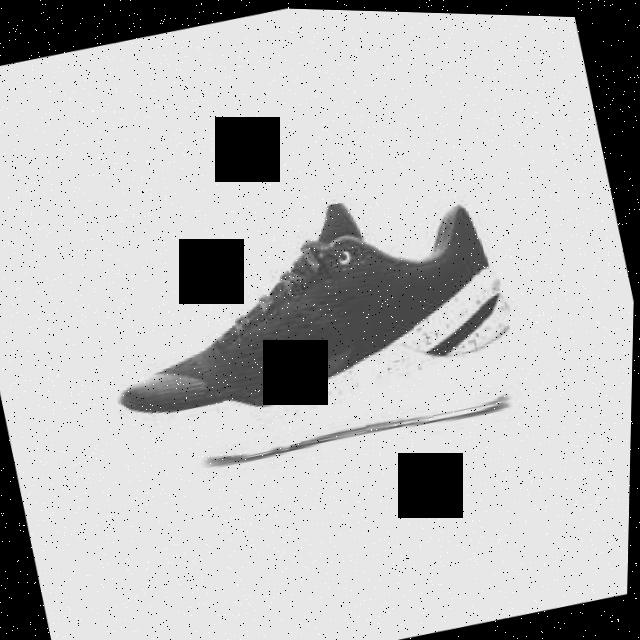shoe: (84, 159, 548, 489)
